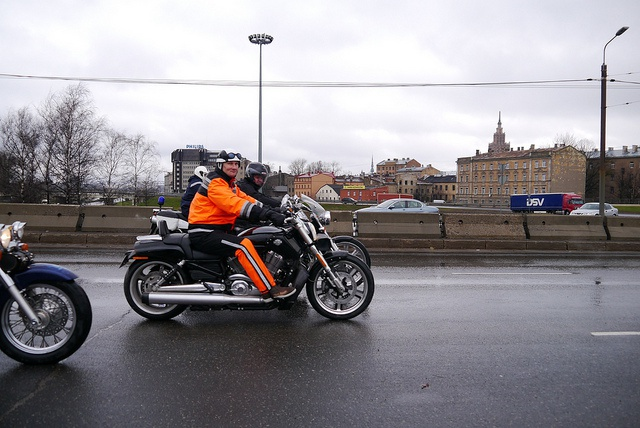non-vehicle: (118, 193, 375, 319), (143, 194, 371, 288), (0, 219, 92, 364)
